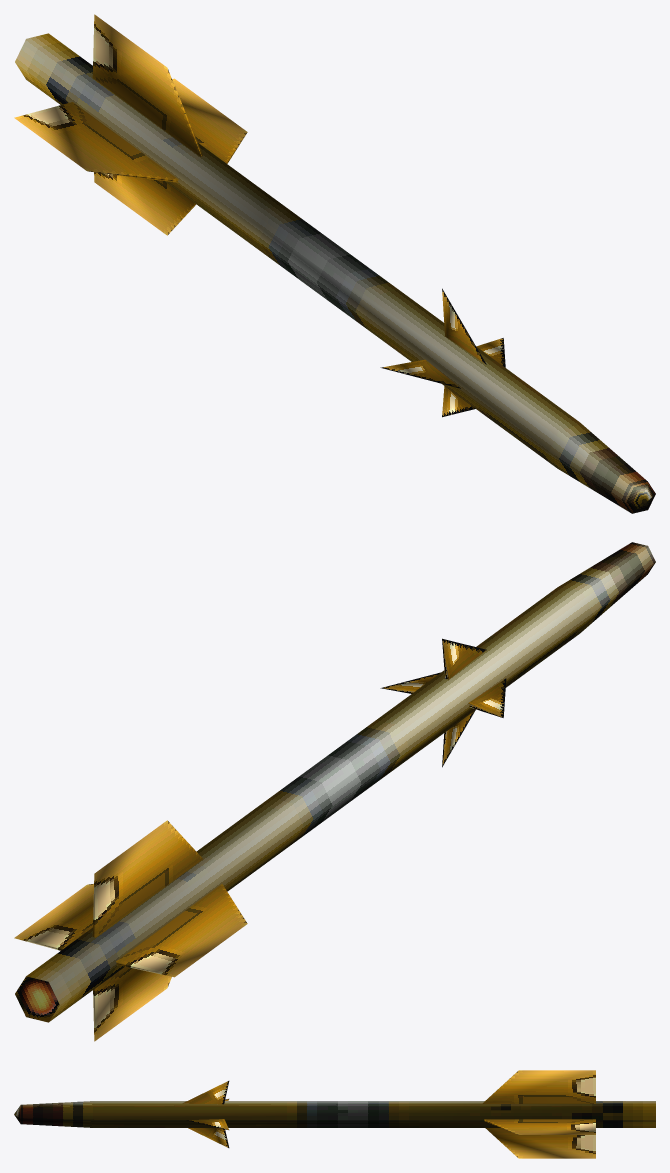
File: mis06.glb
The picture shows the model from 3 angles, top to bottom: view 1: azimuth 30°, elevation 25°; view 2: azimuth 150°, elevation 25°; view 3: azimuth 270°, elevation 25°; orthographic projection. The views are drawn at different scales.
Visible parts, largest first — view 1: mis06; view 2: mis06; view 3: mis06.
Boxes of the visible parts, box(x1,y1,x2,y2) form: mis06: box(14, 14, 655, 513); mis06: box(14, 542, 655, 1041); mis06: box(14, 1070, 655, 1158).
Bounding box in the file's own units: 1.73 × 1.73 × 11.35.
Materials: 1 (1 with a texture image).
